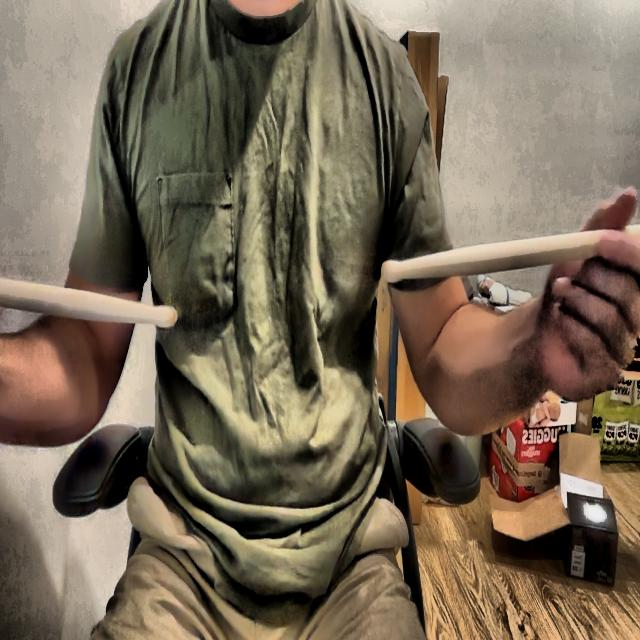Drumstick-Heads: (378, 248, 408, 286), (153, 296, 177, 336)
